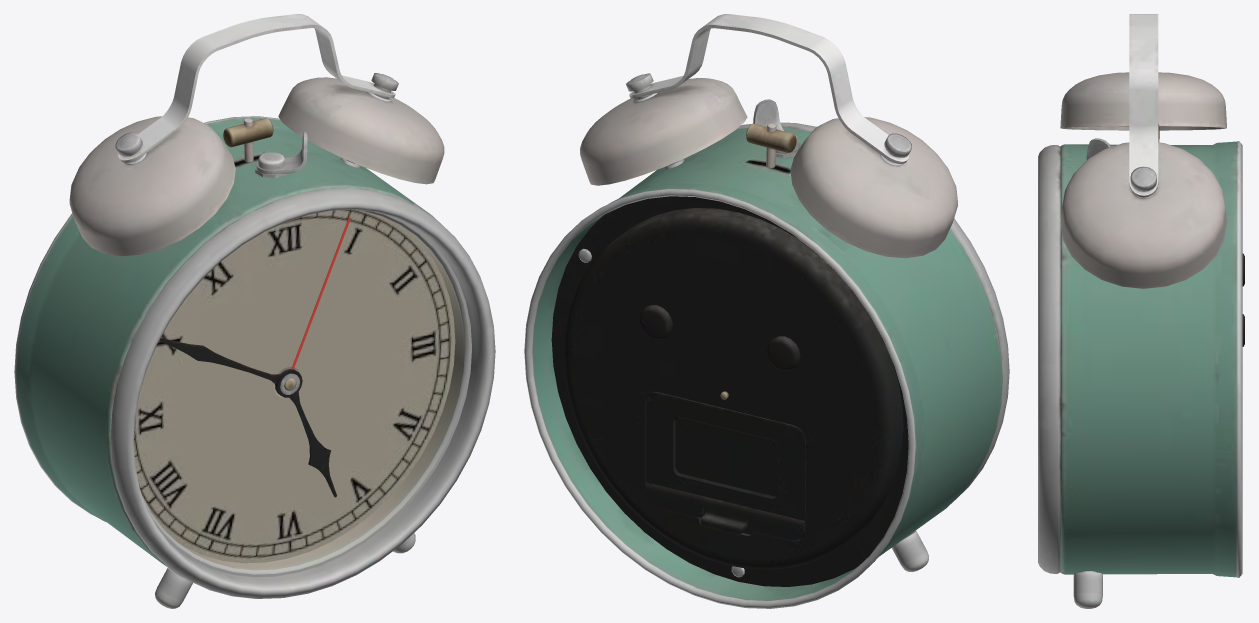
3 renders of one model, left to right at view 1: azimuth 30°, elevation 25°; view 2: azimuth 150°, elevation 25°; view 3: azimuth 270°, elevation 25°, orthographic. The views are drawn at different scales.
Parts seen in each view (by area): view 1: clock-alarm-retro; view 2: clock-alarm-retro; view 3: clock-alarm-retro.
Boxes of the visible parts, x1,y1,x2,y2 form: clock-alarm-retro: [14, 14, 495, 608]; clock-alarm-retro: [524, 14, 1009, 608]; clock-alarm-retro: [1038, 14, 1244, 608].
Bounding box in the file's own units: 0.0907 × 0.12 × 0.0429.
Materials: 1 (1 with a texture image).
